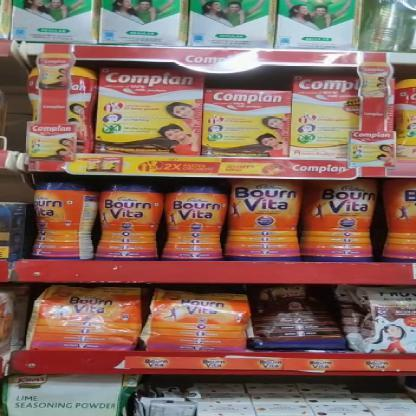Complan Kesar Badam: (291, 74, 363, 158)
Complan Royal Chocolate: (98, 66, 205, 154), (202, 87, 292, 154)
